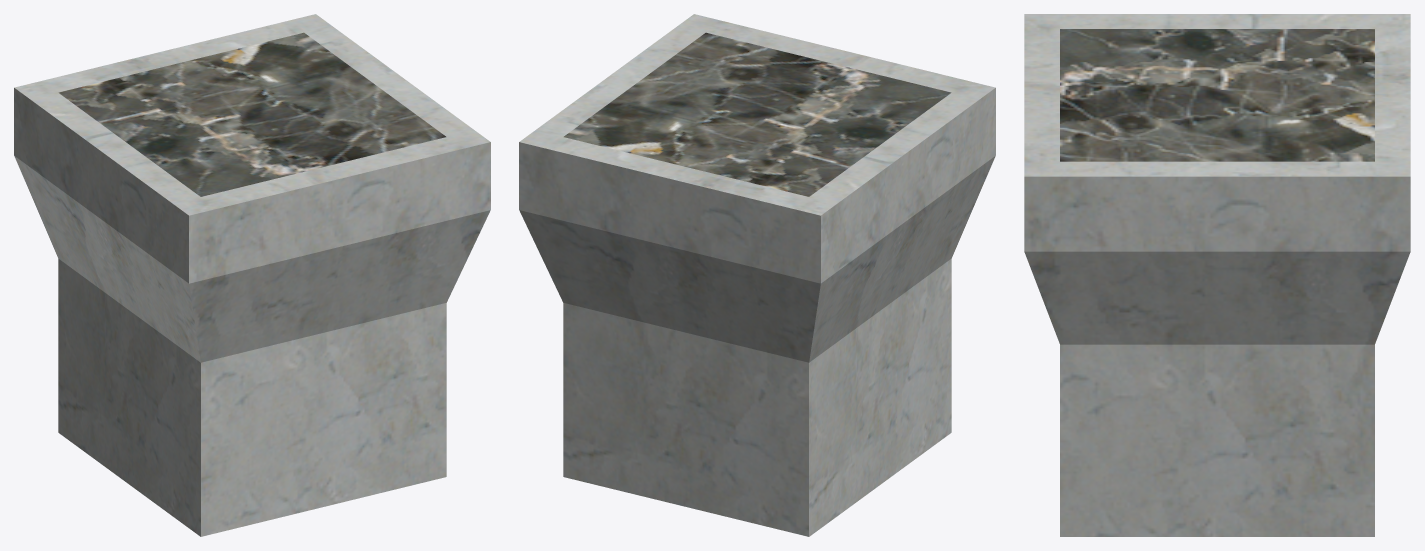
File: Pedestal.fbx
The picture shows the model from 3 angles, left to right: view 1: azimuth 30°, elevation 25°; view 2: azimuth 150°, elevation 25°; view 3: azimuth 270°, elevation 25°; orthographic projection. The views are drawn at different scales.
Visible parts, largest first — view 1: Pedestal; view 2: Pedestal; view 3: Pedestal.
Boxes of the visible parts, x1,y1,x2,y2 form: Pedestal: [14, 14, 490, 536]; Pedestal: [519, 14, 995, 536]; Pedestal: [1024, 14, 1410, 536].
Bounding box in the file's own units: 7.36 × 7.92 × 7.39.
